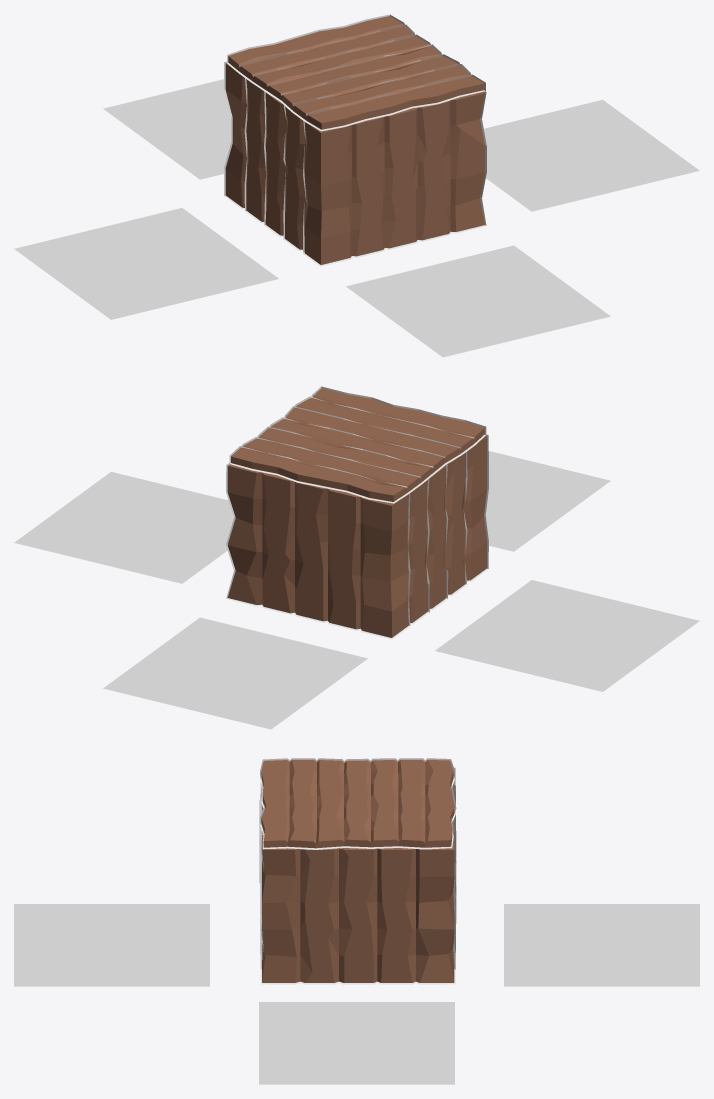
Rendered from tool-box.glb.
3 renders of one model, top to bottom at view 1: azimuth 30°, elevation 25°; view 2: azimuth 150°, elevation 25°; view 3: azimuth 270°, elevation 25°, orthographic.
Parts seen in each view (by area): view 1: box, flap, planeLeft, planeBottom, planeRight, planeTop; view 2: box, flap, planeLeft, planeTop, planeRight, planeBottom; view 3: box, flap, planeRight, planeTop, planeBottom.
Part boxes in pixels (x1=…): box: x1=224, y1=61, x2=486, y2=266; flap: x1=227, y1=14, x2=485, y2=131; planeLeft: x1=14, y1=208, x2=278, y2=319; planeBottom: x1=346, y1=245, x2=610, y2=357; planeRight: x1=484, y1=99, x2=699, y2=211; planeTop: x1=103, y1=79, x2=230, y2=179; box: x1=226, y1=434, x2=488, y2=639; flap: x1=229, y1=386, x2=486, y2=503; planeLeft: x1=435, y1=580, x2=699, y2=691; planeTop: x1=103, y1=617, x2=367, y2=729; planeRight: x1=14, y1=472, x2=233, y2=583; planeBottom: x1=485, y1=451, x2=610, y2=551; box: x1=260, y1=767, x2=456, y2=984; flap: x1=260, y1=758, x2=455, y2=849; planeRight: x1=259, y1=1002, x2=454, y2=1084; planeTop: x1=504, y1=904, x2=699, y2=986; planeBottom: x1=14, y1=904, x2=209, y2=986.
Bounding box in the file's own units: 5.6 × 1.31 × 5.6.
